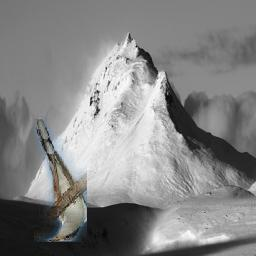Cuckoo: (35, 116, 88, 242)
